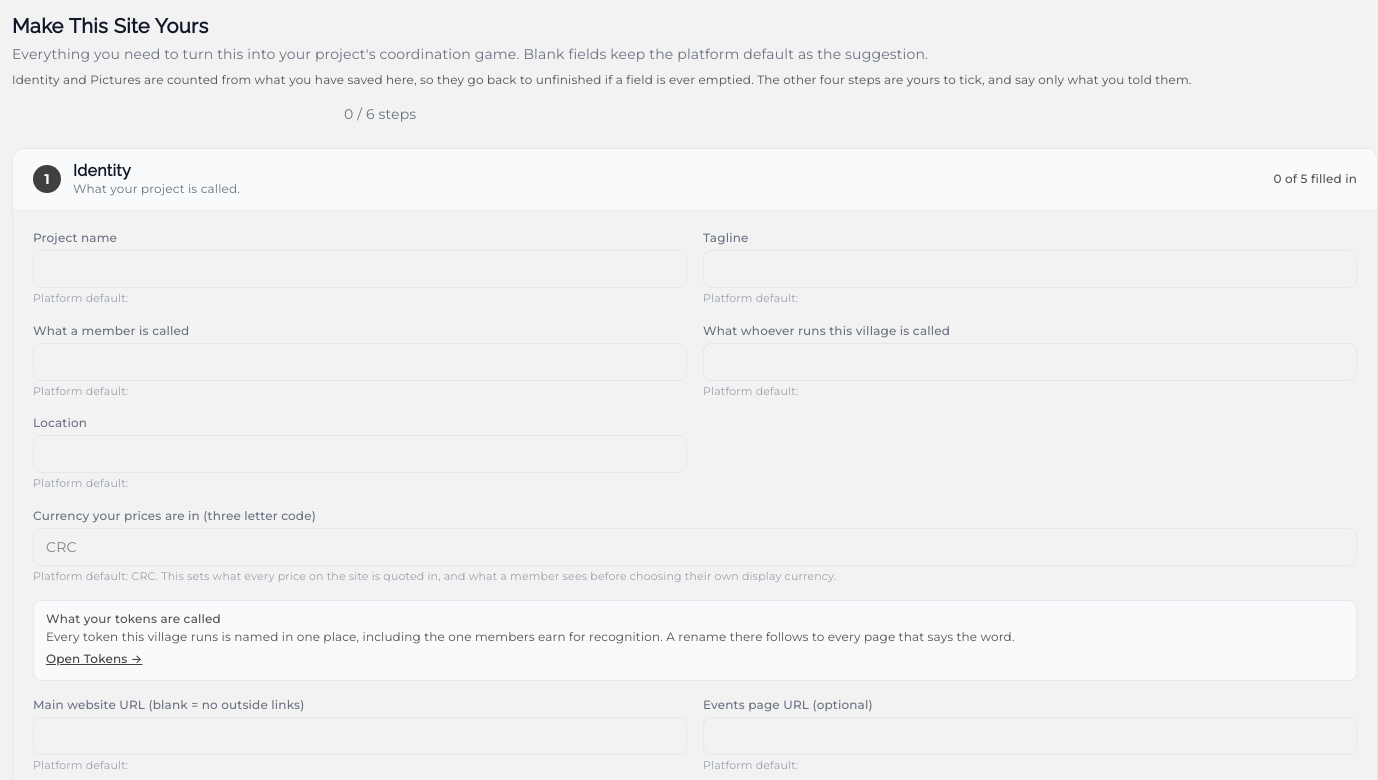
Test: the founder can set the village's own currency › refuses a code that is not three letters
Type "XX" into the field labelled "Currency your prices are in (three letter code)" at (695, 546), box [33,528,1357,566]
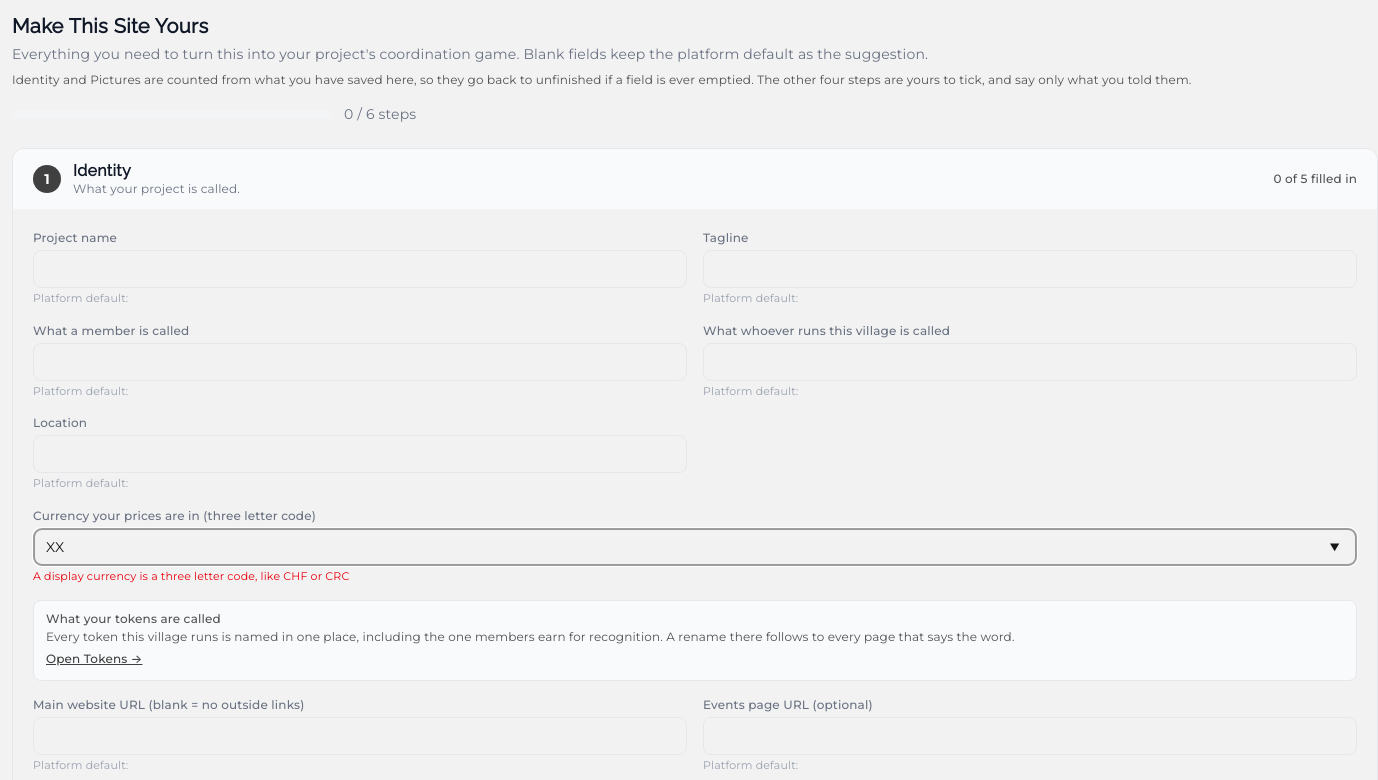
Check: the message shows "three letter code", box [33,568,350,582]
